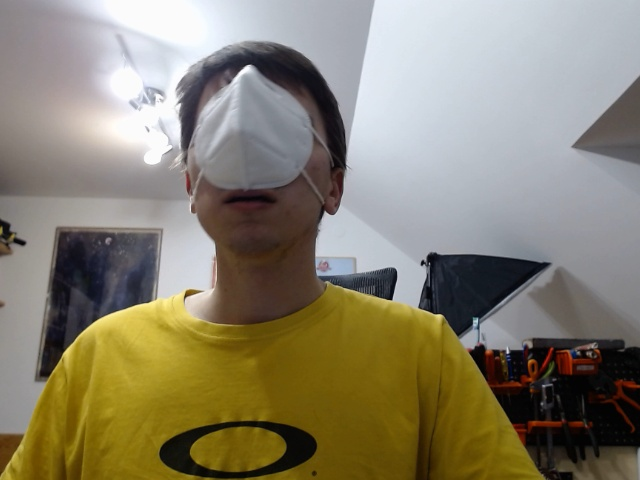WrongMask: (175, 44, 346, 260)
